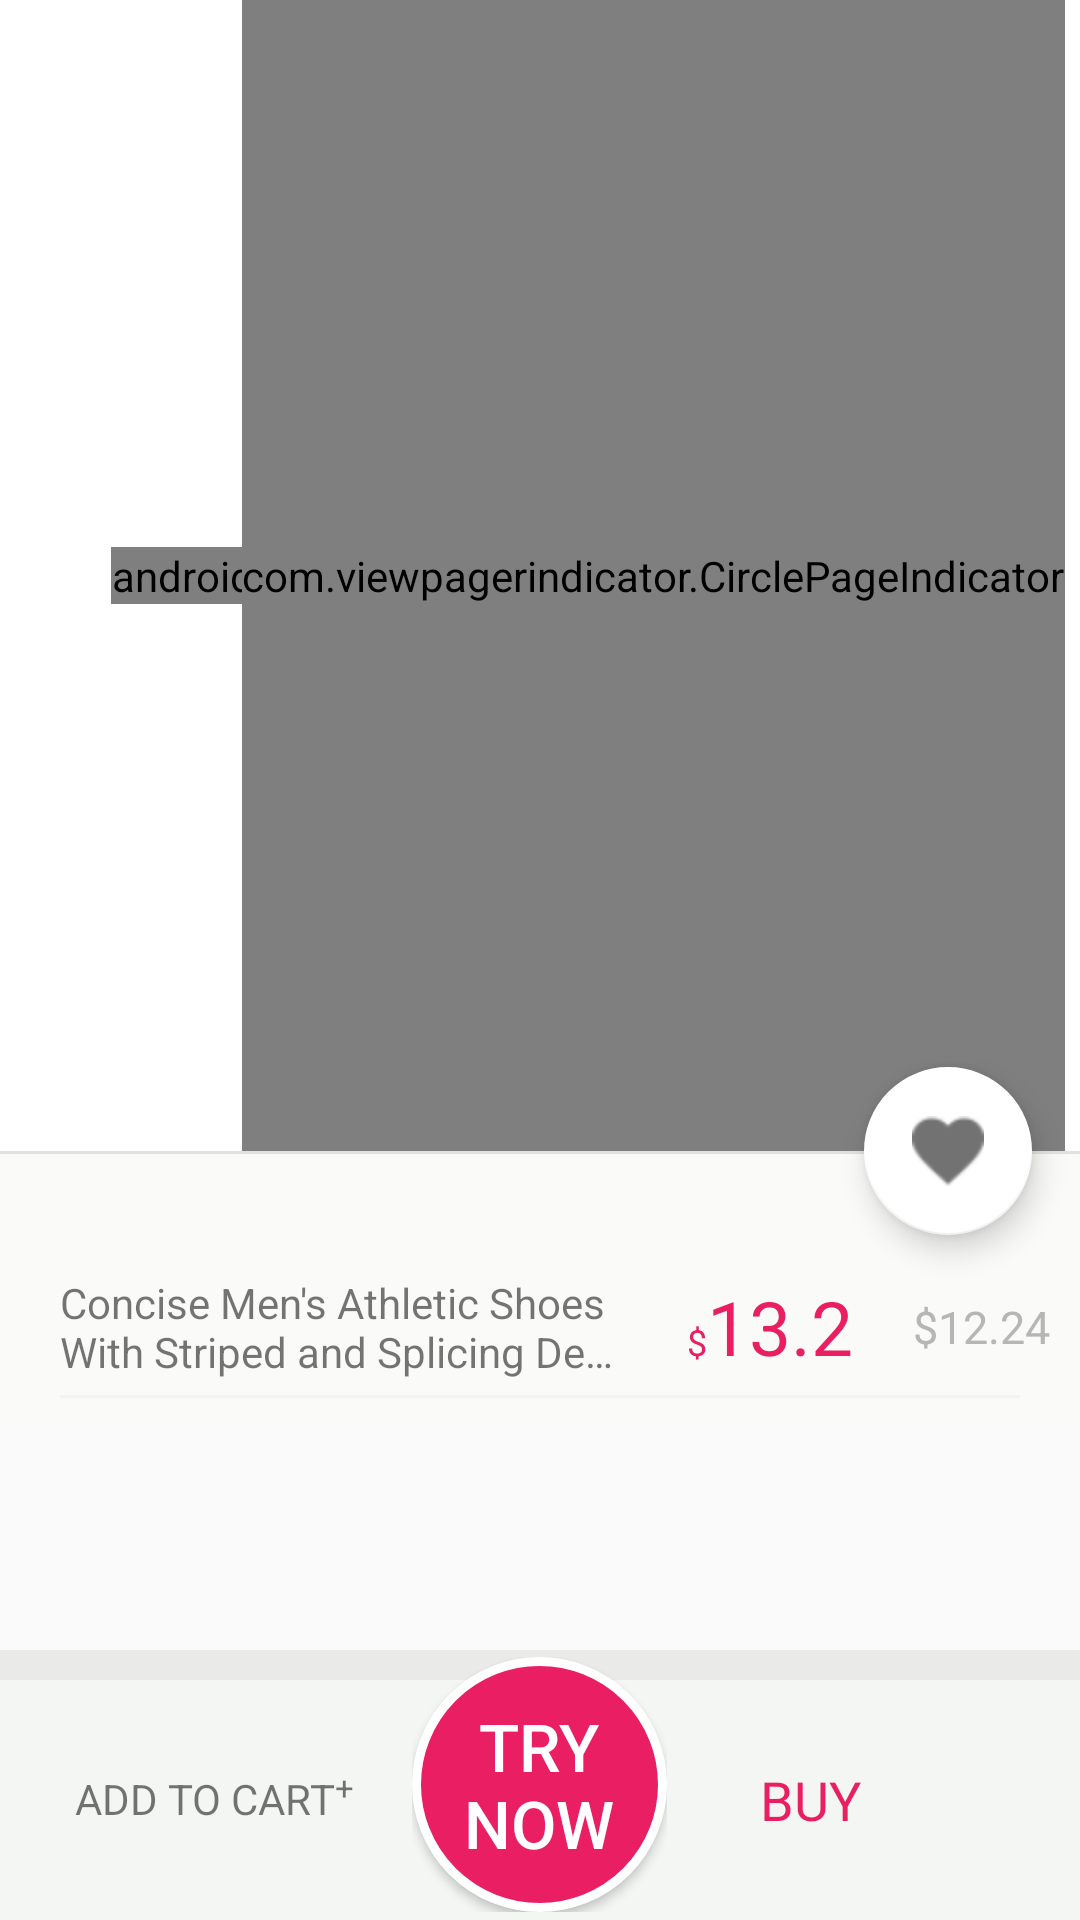

Named icons in this screenshot (1080×1920) and their centers, point (x, y):
love: point (948, 1151)
